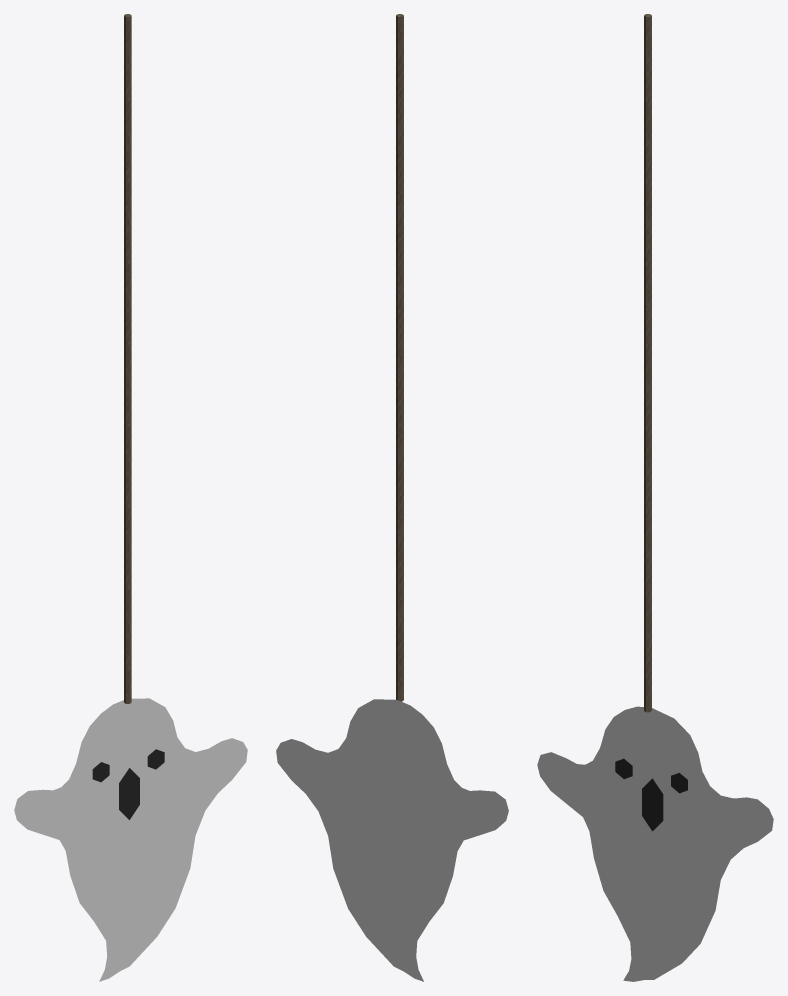
The model's file is Cartoon_Ghost.glb.
3 views of the same model, side by side, from view 1: azimuth 30°, elevation 25°; view 2: azimuth 150°, elevation 25°; view 3: azimuth 330°, elevation 25° (orthographic).
Parts seen in each view (by area): view 1: Ghost, String; view 2: Ghost, String; view 3: Ghost, String.
Part boxes in pixels (bbox=[...]): Ghost: bbox=[14, 698, 247, 981]; String: bbox=[124, 14, 131, 703]; Ghost: bbox=[276, 699, 508, 981]; String: bbox=[396, 14, 403, 701]; Ghost: bbox=[537, 706, 773, 981]; String: bbox=[644, 14, 651, 712].
Size of the model in its own units: 0.8914 by 3.51 by 0.0273.
3 materials, 1 textured.
